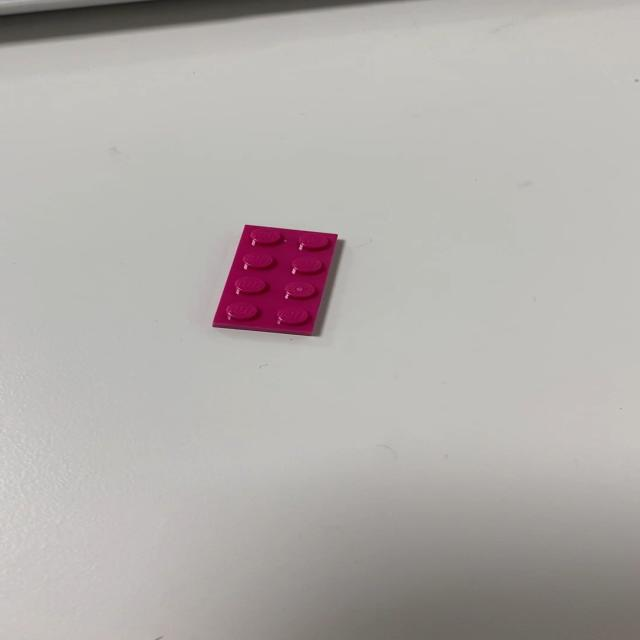C4x2x0: (211, 222, 340, 336)
